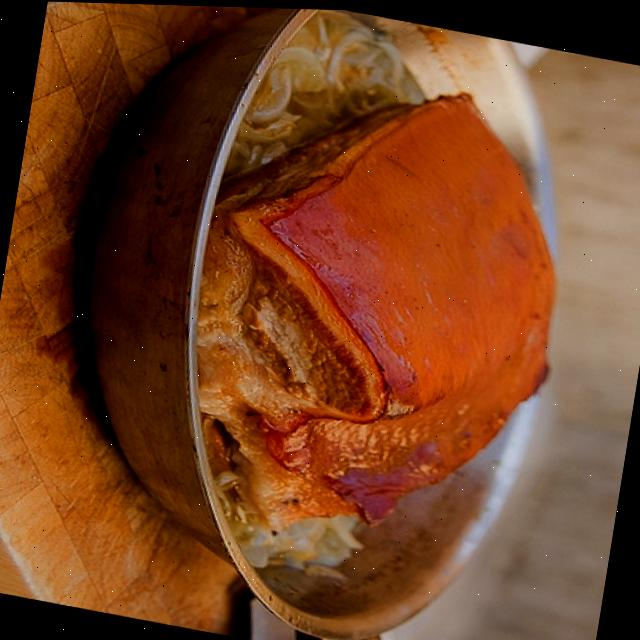牛肉菜式: (53, 1, 640, 640)
